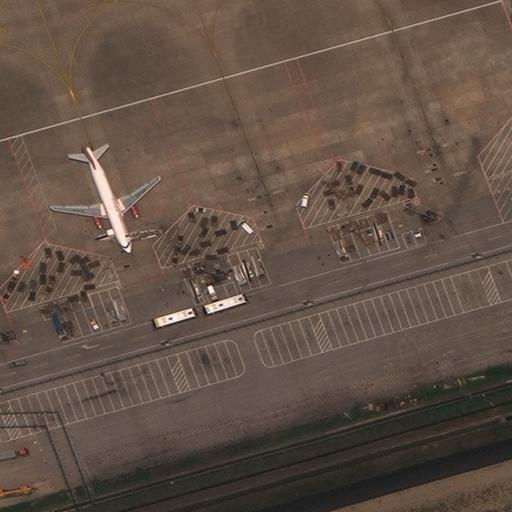Medium Civil Transport: (52, 146, 161, 253)
